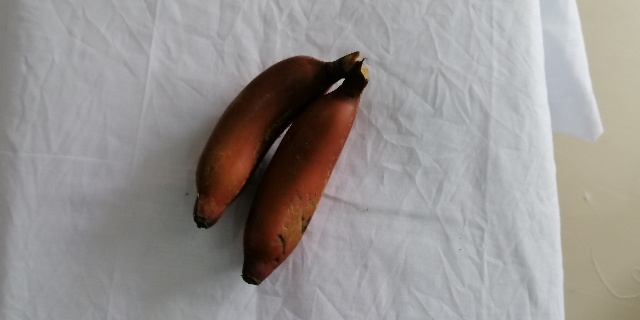banana_red: (237, 61, 367, 290), (189, 54, 358, 230)
